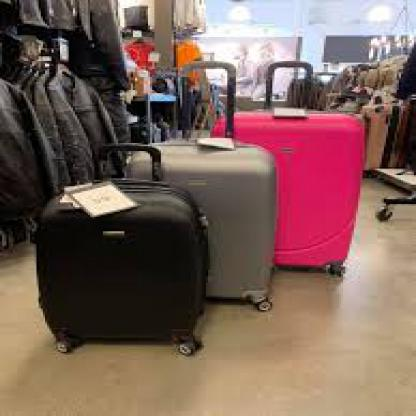maleta: (32, 138, 242, 374), (206, 98, 390, 283), (112, 128, 285, 312)
